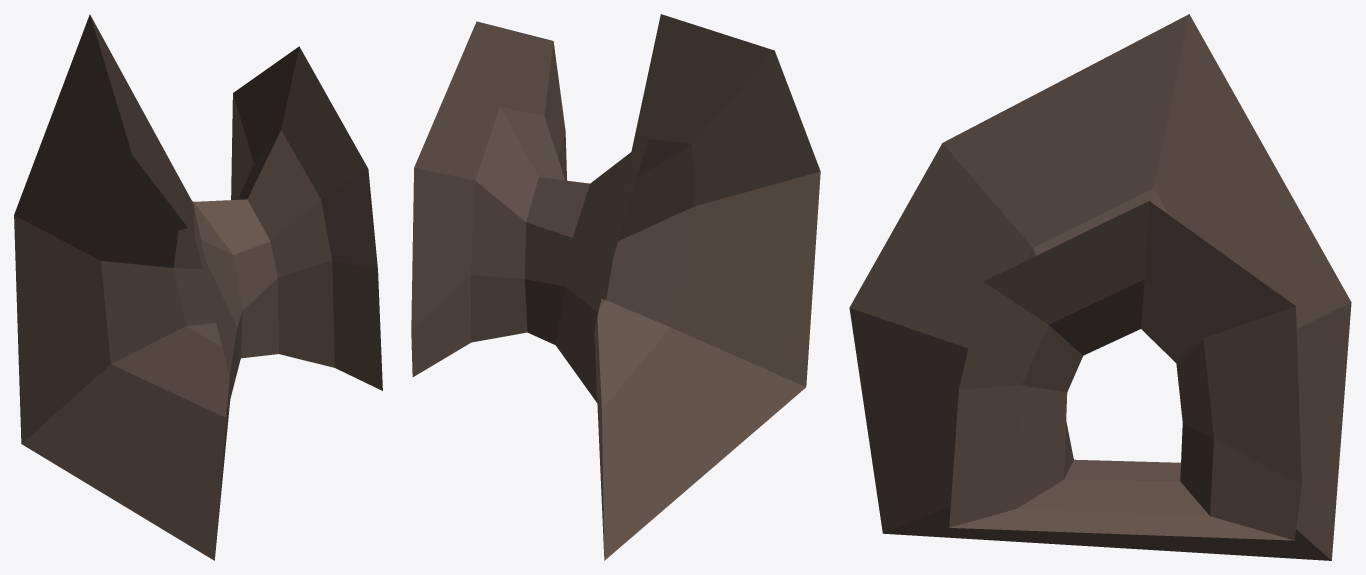
The model's file is DomeExit-adapter-05.fbx.
3 views of the same model, side by side, from view 1: azimuth 30°, elevation 25°; view 2: azimuth 150°, elevation 25°; view 3: azimuth 270°, elevation 25° (orthographic). The views are drawn at different scales.
Parts seen in each view (by area): view 1: DomeExit-adapter-05; view 2: DomeExit-adapter-05; view 3: DomeExit-adapter-05.
Boxes of the visible parts, <box> form: DomeExit-adapter-05: <box>14,14,382,560</box>; DomeExit-adapter-05: <box>411,14,820,560</box>; DomeExit-adapter-05: <box>849,14,1351,560</box>.
Size of the model in its own units: 556 by 1259 by 1039.
